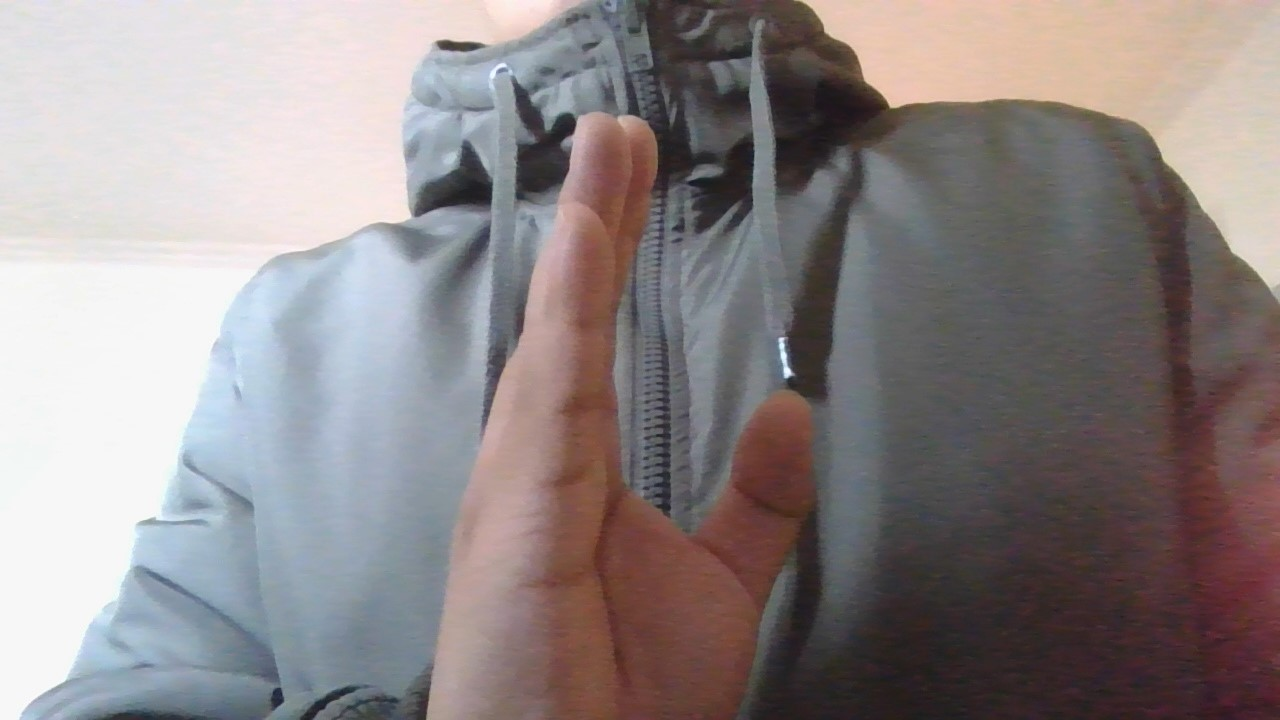j: (360, 91, 850, 720)
